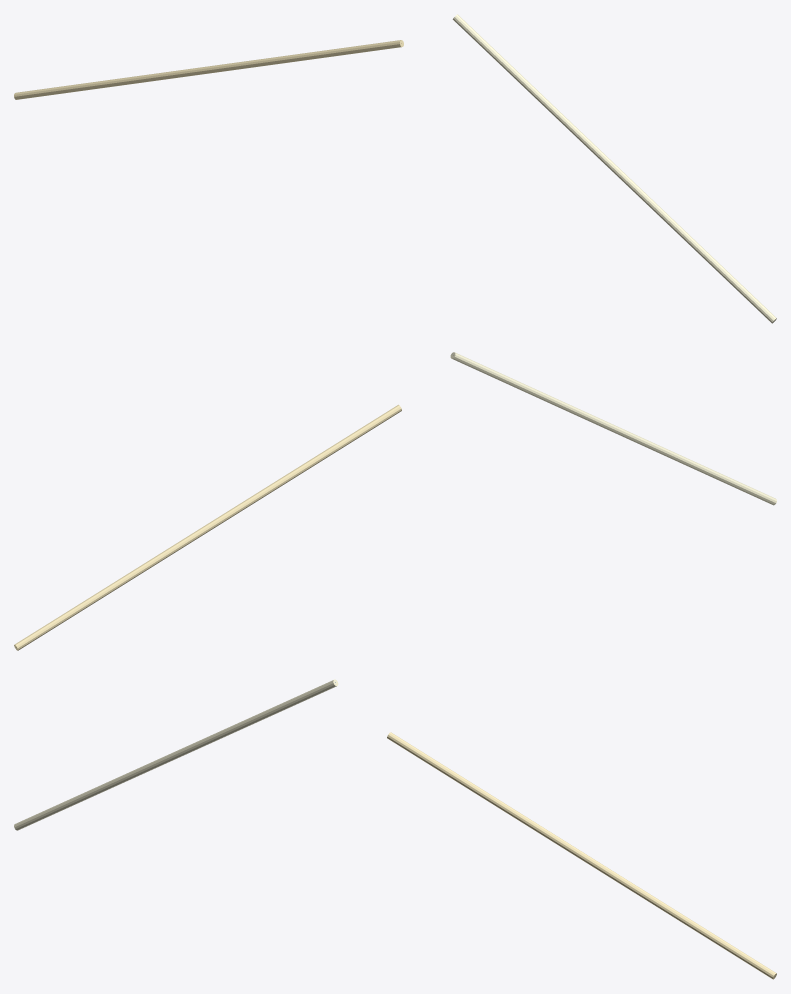
The model's file is tile_523.glb.
The picture shows the model from 3 angles, top to bottom: view 1: azimuth 90°, elevation 25°; view 2: azimuth 150°, elevation 25°; view 3: azimuth 270°, elevation 25°; orthographic projection.
Size of the model in its own units: 15.33 by 8.66 by 26.07.
